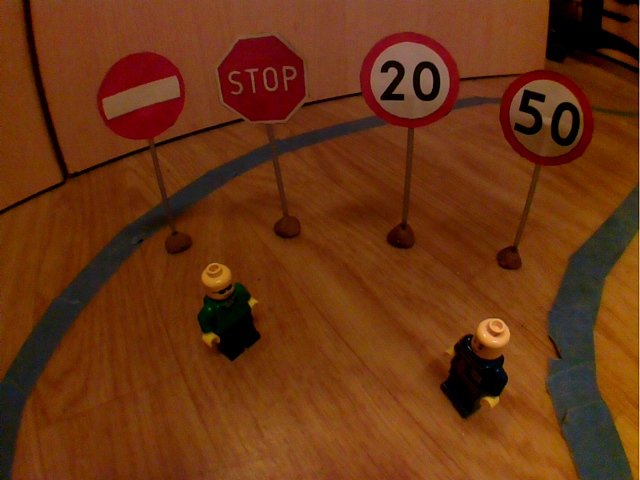Ograniczenie 20: (353, 28, 465, 138)
Ograniczenie 50: (493, 64, 602, 172)
Postac LEGO: (432, 312, 518, 426), (190, 254, 271, 366)
Stop: (210, 29, 311, 131)
Zakaz: (91, 47, 192, 146)
